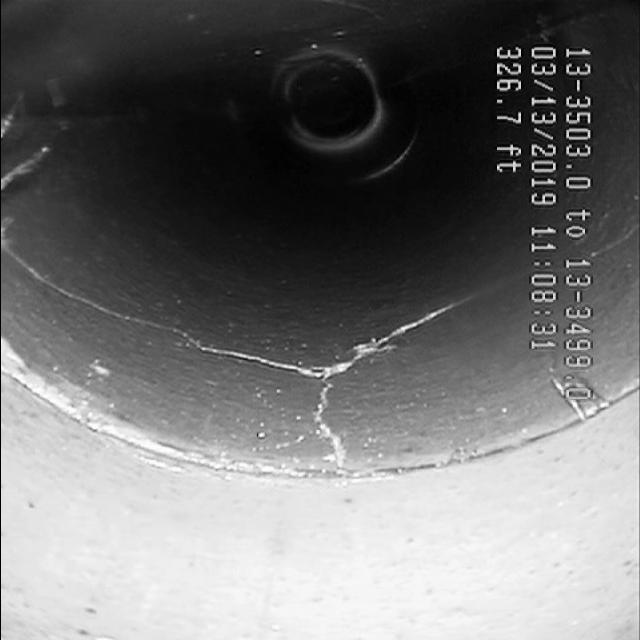Crack: (122, 280, 490, 400)
